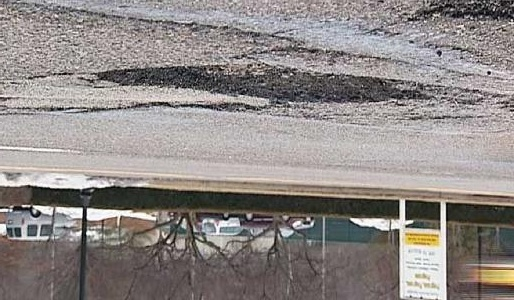pothole: (95, 63, 416, 103), (416, 0, 514, 22)
